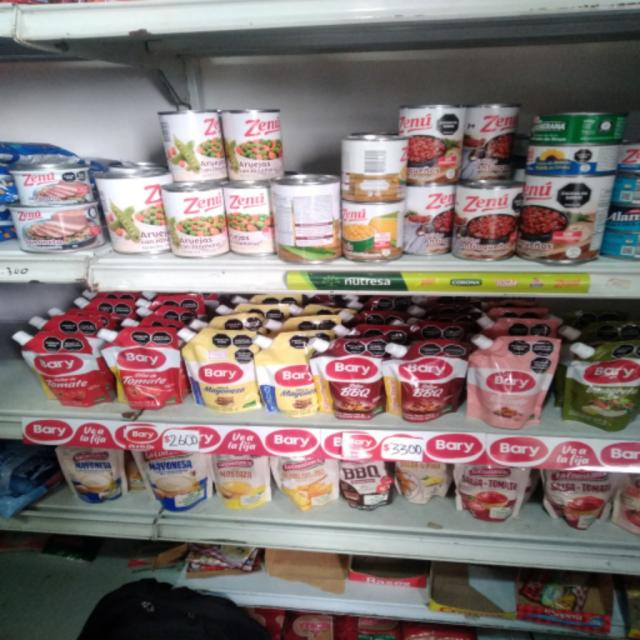BBQ: (384, 347, 466, 421), (313, 345, 385, 423)
Mayonesa: (182, 335, 263, 415), (257, 340, 320, 418)
Precio: (160, 432, 206, 455), (385, 440, 427, 464)
Rosada: (473, 338, 554, 428)
Tomate: (97, 332, 183, 411), (11, 334, 102, 406)
